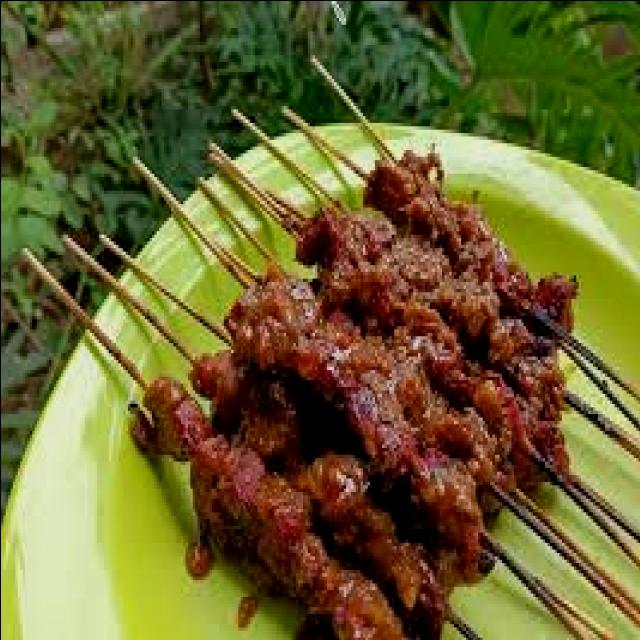sate: (80, 144, 584, 624)
